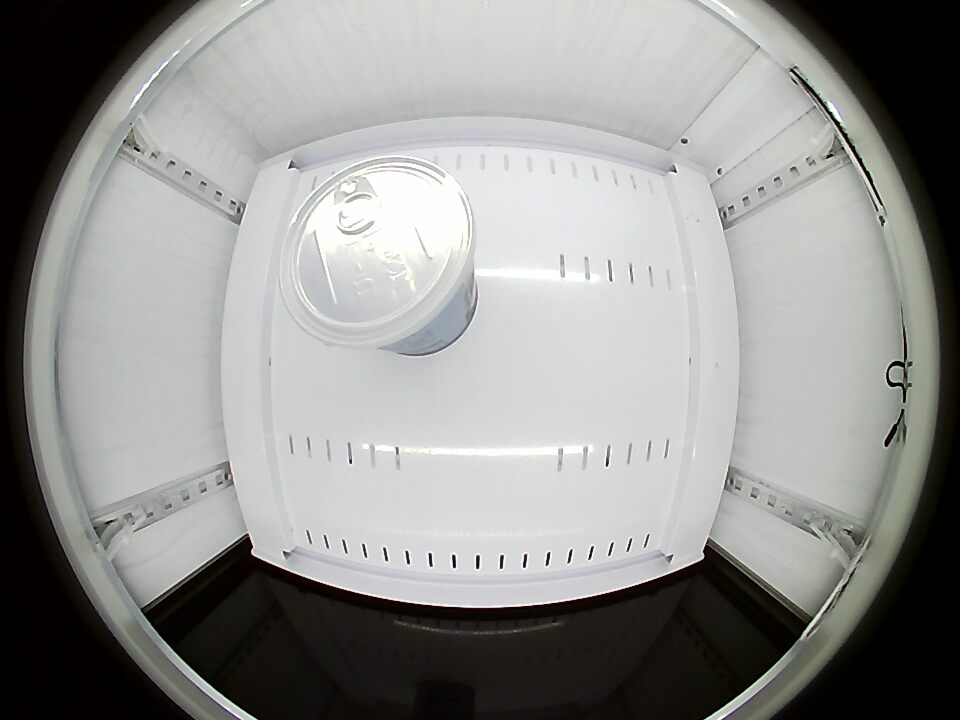haitai: (280, 157, 478, 355)
